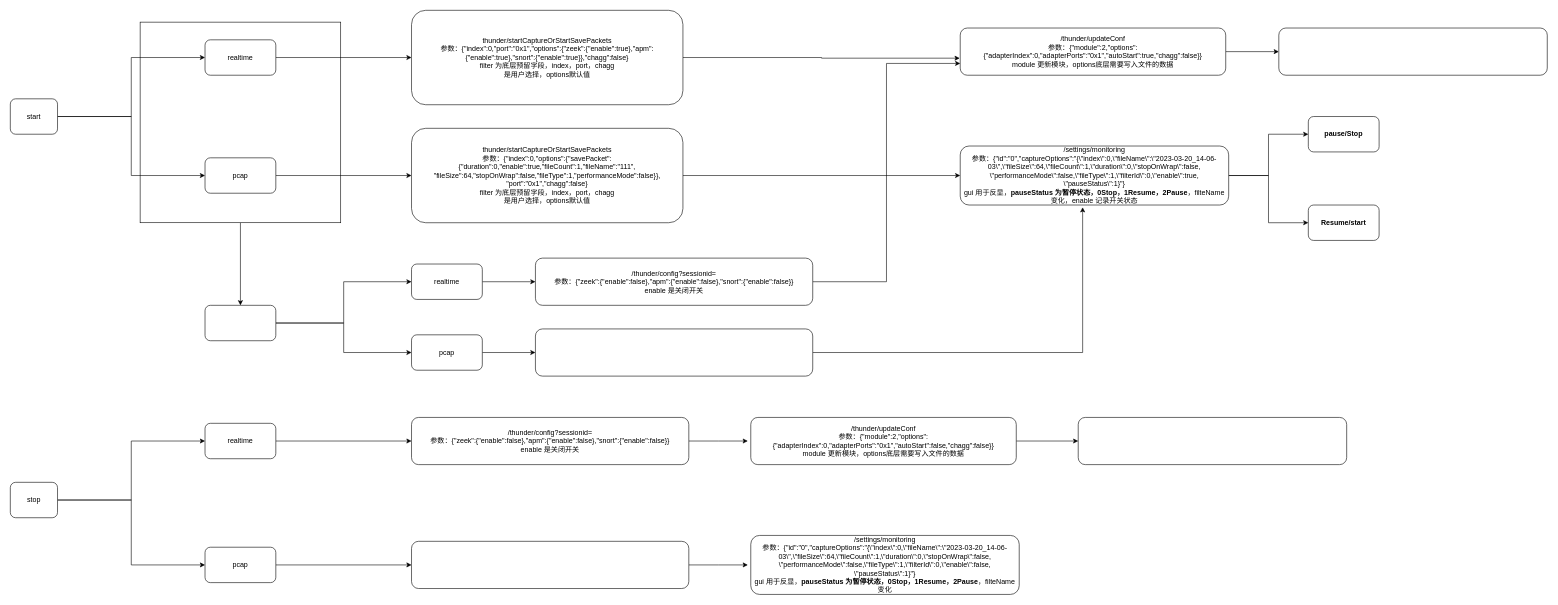
The diagram is 1558 pixels wide and 605 high, and some of its shapes have lost their labels. The centre of each missing label's shape, as x and y in pixels:
/monitorCaptureSetting 参数：{"id":0,"realTime":false} 更新数据库接口，gui反显和底层读取: (x=1212, y=441)
/monitorCaptureSetting 参数：{"id":0,"realTime":true} 更新数据库接口，gui反显和底层读取: (x=1412, y=51)
/thunder/config?sessionid= 参数：{"savePacket":{"enable":false}} enable 是关闭开关: (x=550, y=565)
/thunder/config?sessionid= 参数：{"savePacket":{"enable":true}} enable 是关闭开关: (x=674, y=352)
其中一个已经开启: (x=240, y=323)
